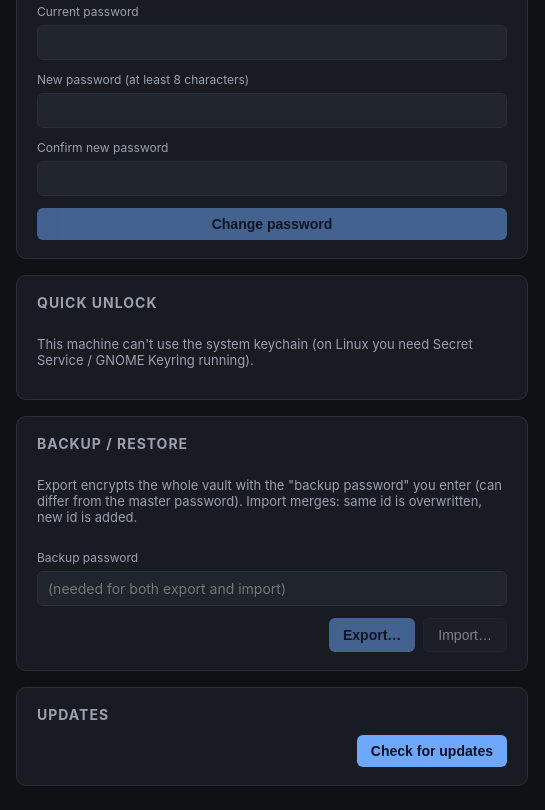
Test: Settings — updater › reports being up to date when no update is found
(page scrolled)
Click the button "Check for updates": {"x": 432, "y": 751} [357,735,507,767]
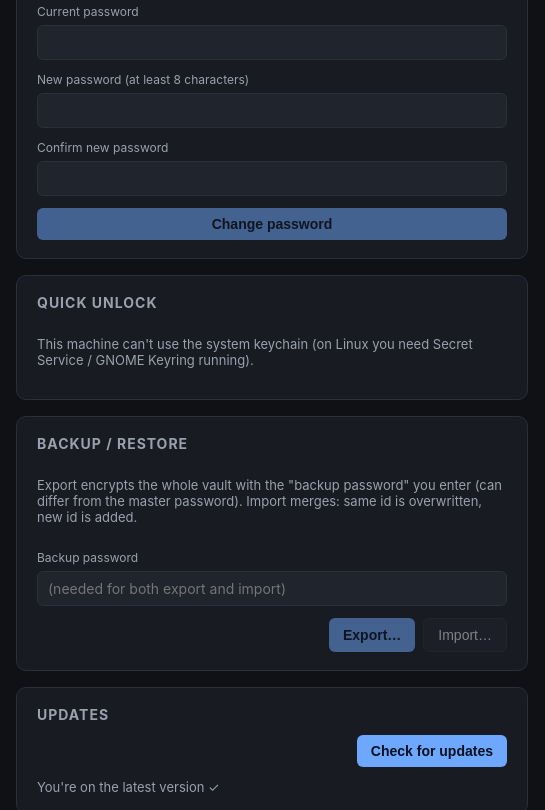
Expected: the text "You're on the latest version ✓" is shown, [37,779,220,795]
